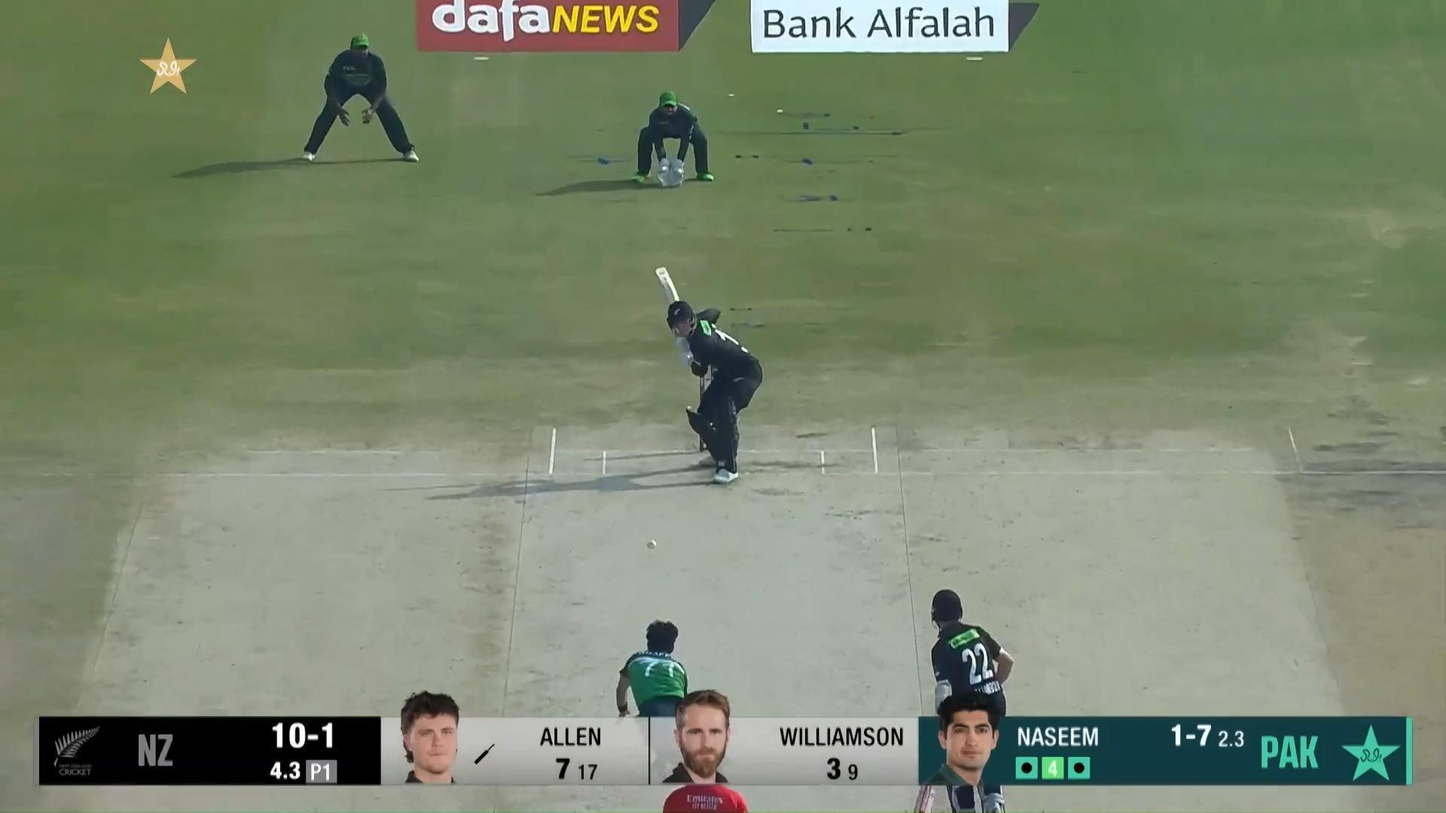BM 1: (655, 267, 763, 484)
BO: (615, 619, 688, 719)
